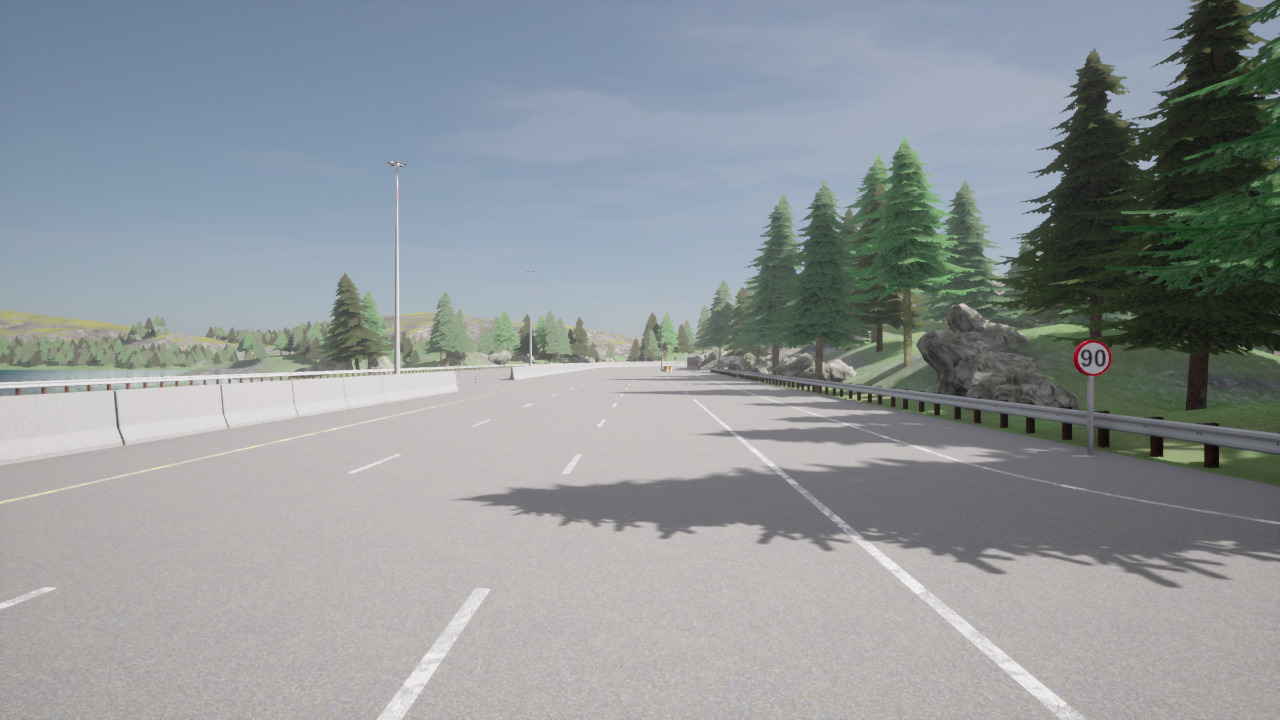sl90: (1072, 338, 1113, 377)
